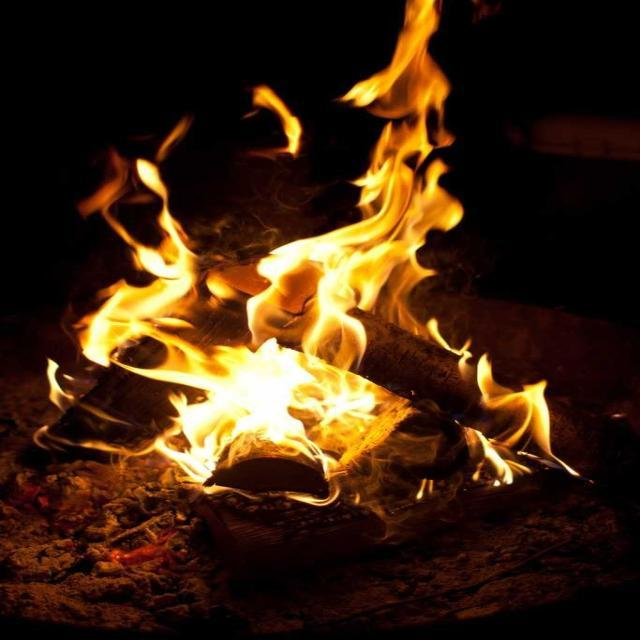Fire: (220, 364, 358, 452), (373, 95, 438, 230), (279, 246, 396, 310)
